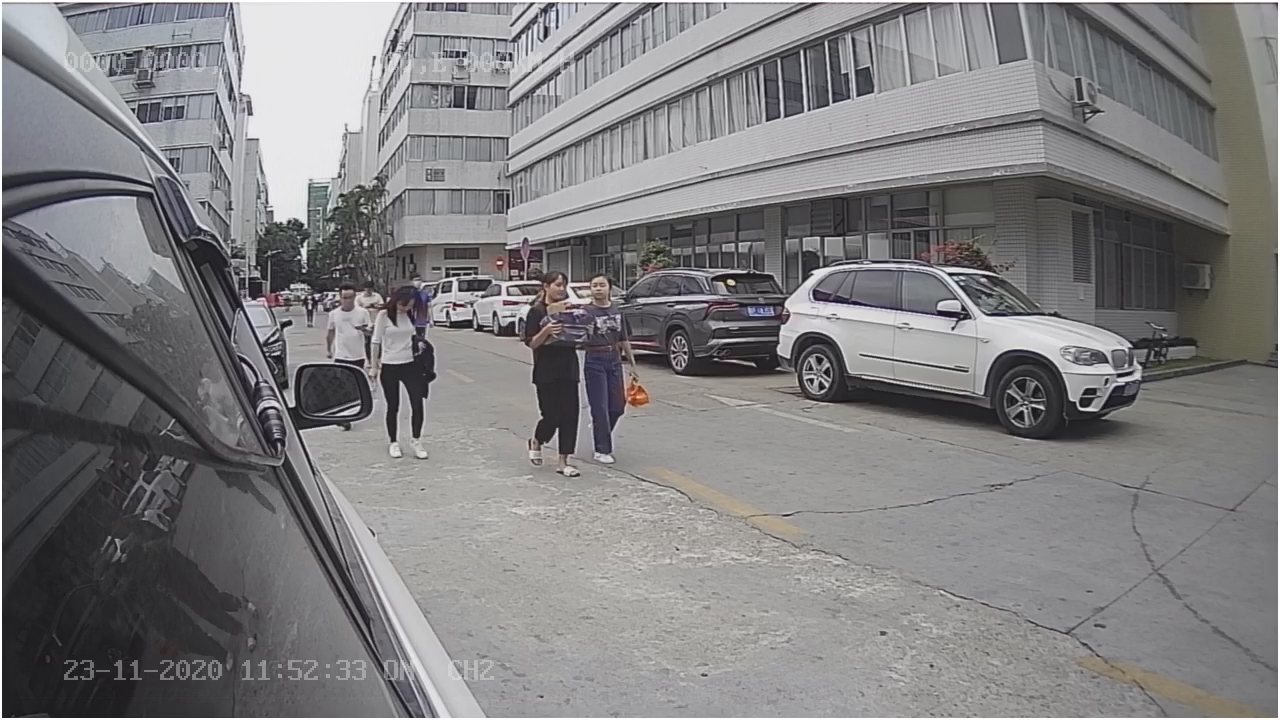person: (522, 268, 583, 479), (370, 287, 430, 462), (585, 266, 632, 462)
